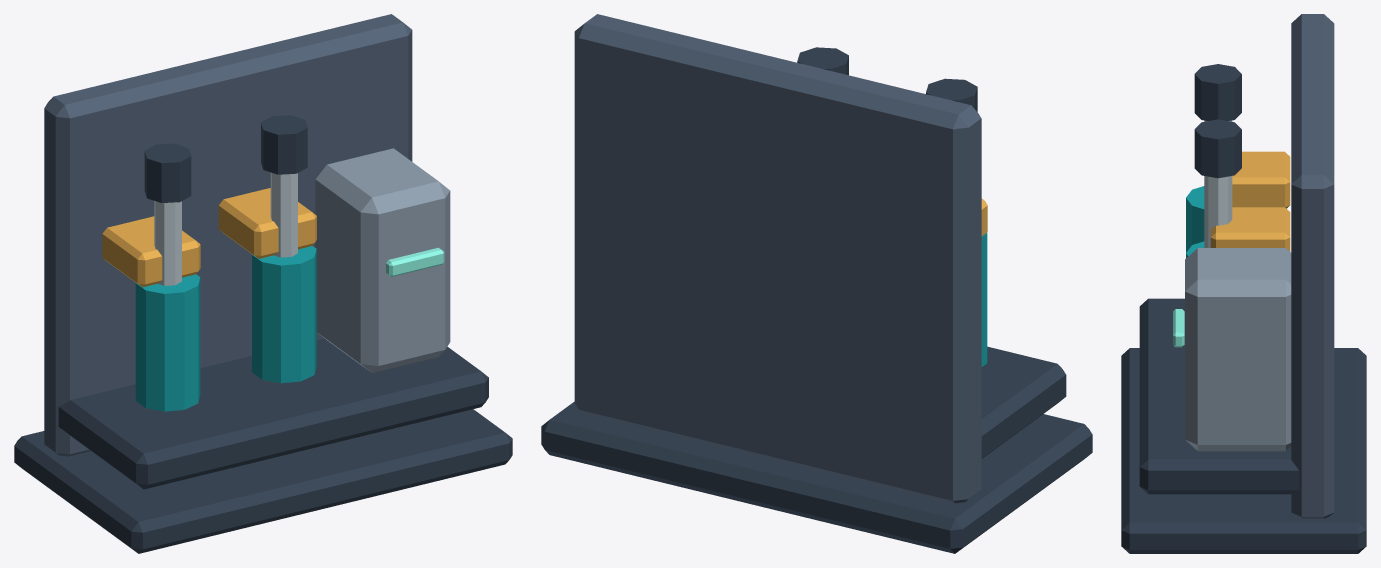
The model's file is 11_Technician_Dock.glb.
3 views of the same model, side by side, from view 1: azimuth 30°, elevation 25°; view 2: azimuth 150°, elevation 25°; view 3: azimuth 270°, elevation 25° (orthographic). The views are drawn at different scales.
Parts seen in each view (by area): view 1: 11_Technician_Dock__Body; view 2: 11_Technician_Dock__Body; view 3: 11_Technician_Dock__Body.
Part boxes in pixels (x1=…): 11_Technician_Dock__Body: x1=14, y1=14, x2=512, y2=553; 11_Technician_Dock__Body: x1=541, y1=14, x2=1092, y2=553; 11_Technician_Dock__Body: x1=1121, y1=14, x2=1366, y2=553.
Size of the model in its own units: 2 by 1.91 by 1.14.
Materials: 1 (1 with a texture image).
